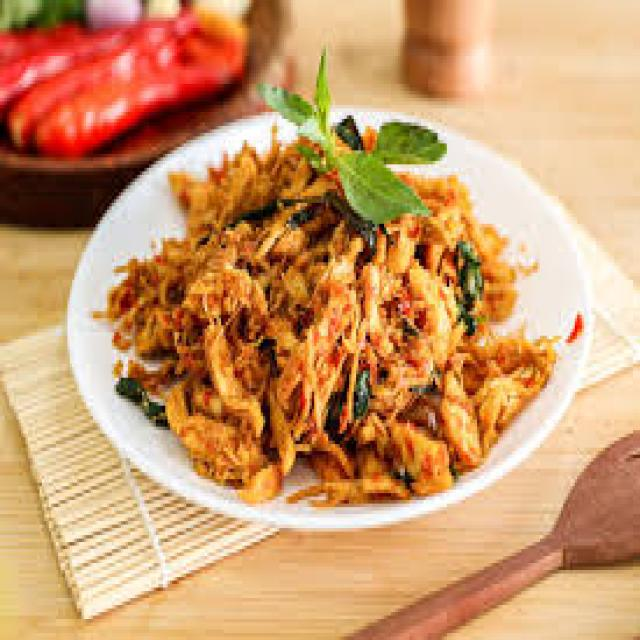ayam_suwir: (117, 117, 564, 493)
